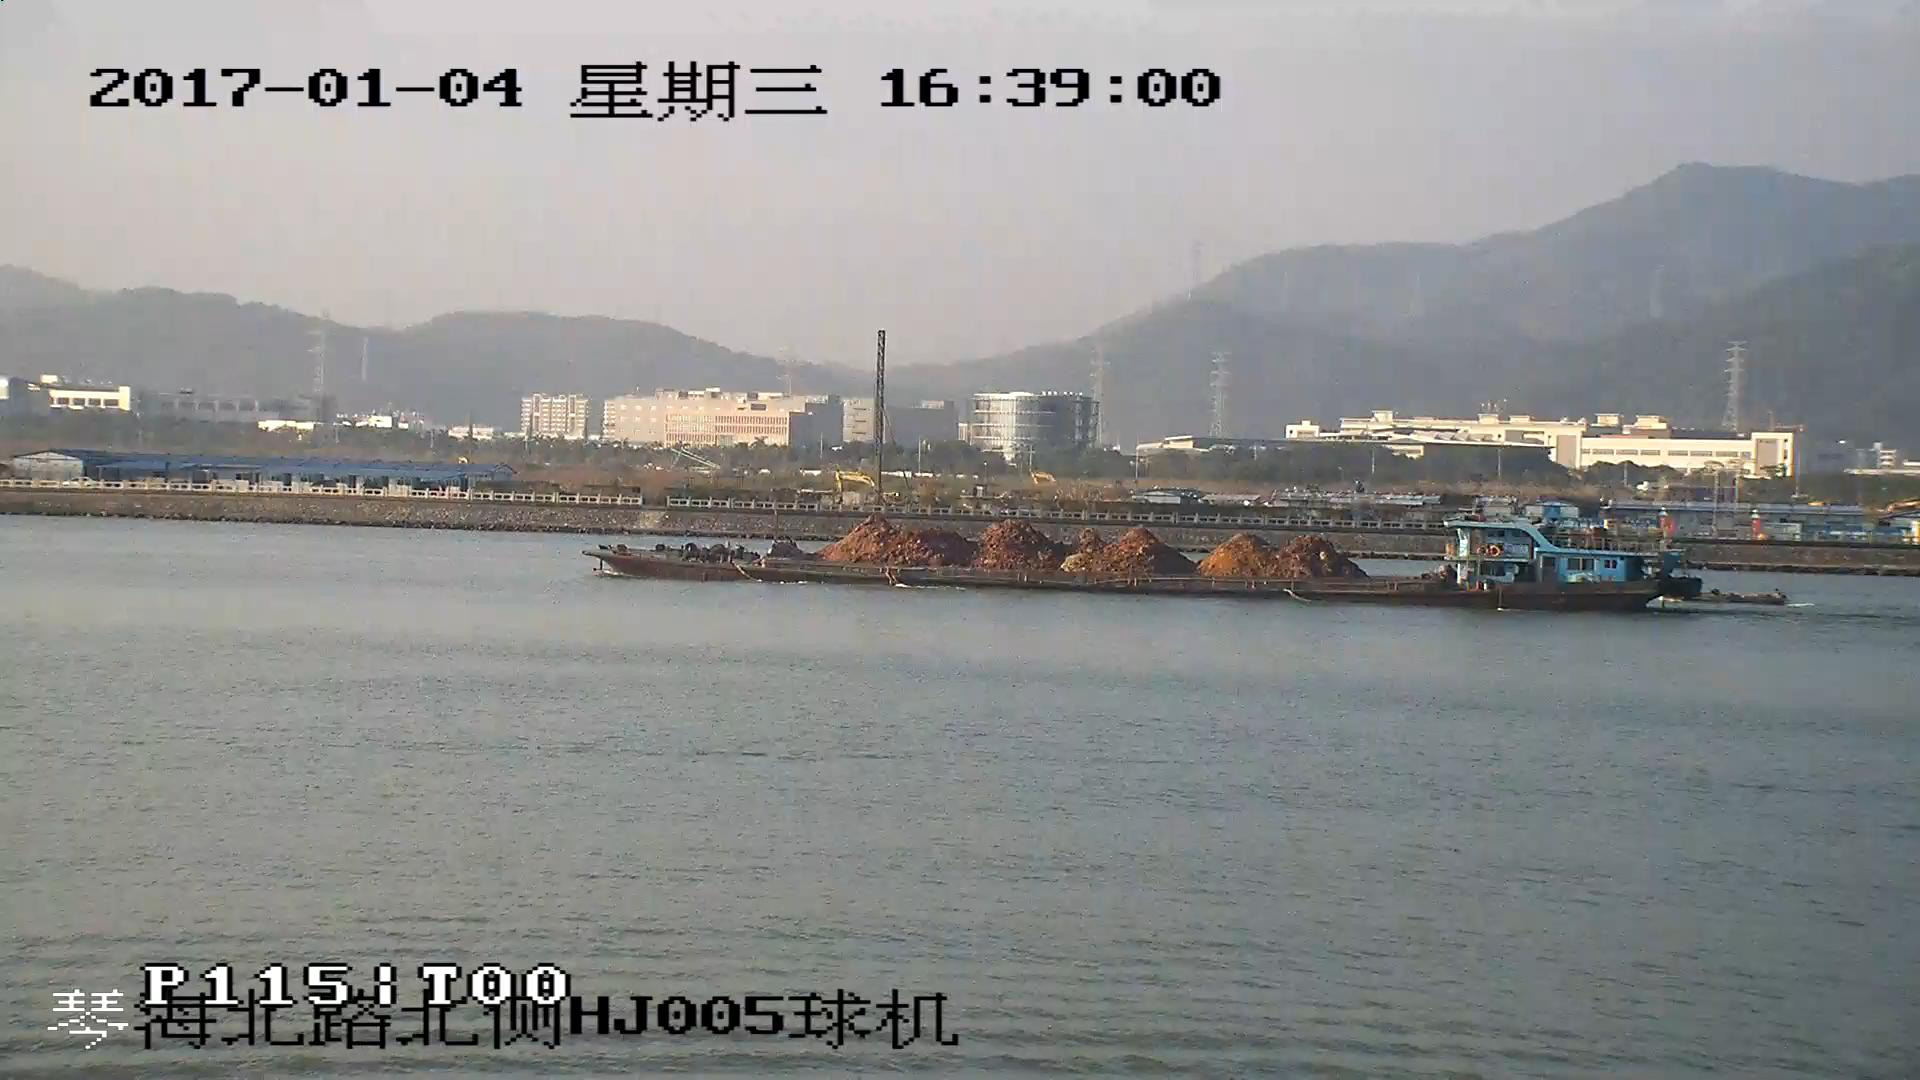ore carrier: (583, 509, 1705, 611)
